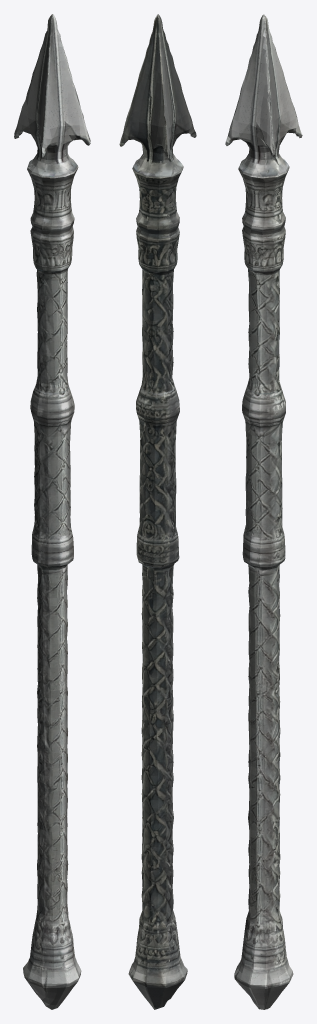
File: Spear.fbx
The picture shows the model from 3 angles, left to right: view 1: azimuth 30°, elevation 25°; view 2: azimuth 150°, elevation 25°; view 3: azimuth 330°, elevation 25°; orthographic projection.
Visible parts, largest first — view 1: Spear_Low; view 2: Spear_Low; view 3: Spear_Low.
Boxes of the visible parts, x1,y1,x2,y2 form: Spear_Low: [14, 14, 90, 1009]; Spear_Low: [119, 14, 196, 1009]; Spear_Low: [225, 14, 302, 1009].
Bounding box in the file's own units: 0.0535 × 0.9859 × 0.0542.
1 material, 1 textured.
